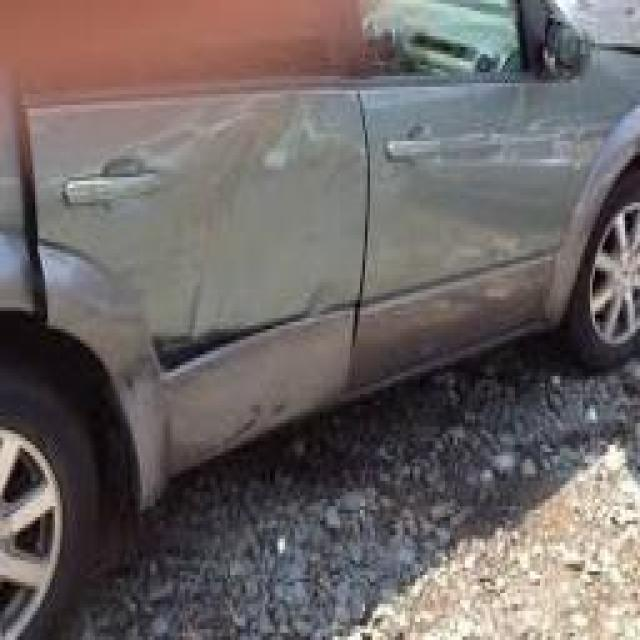rapairable: (144, 105, 336, 183), (140, 303, 244, 357), (218, 414, 270, 454)
